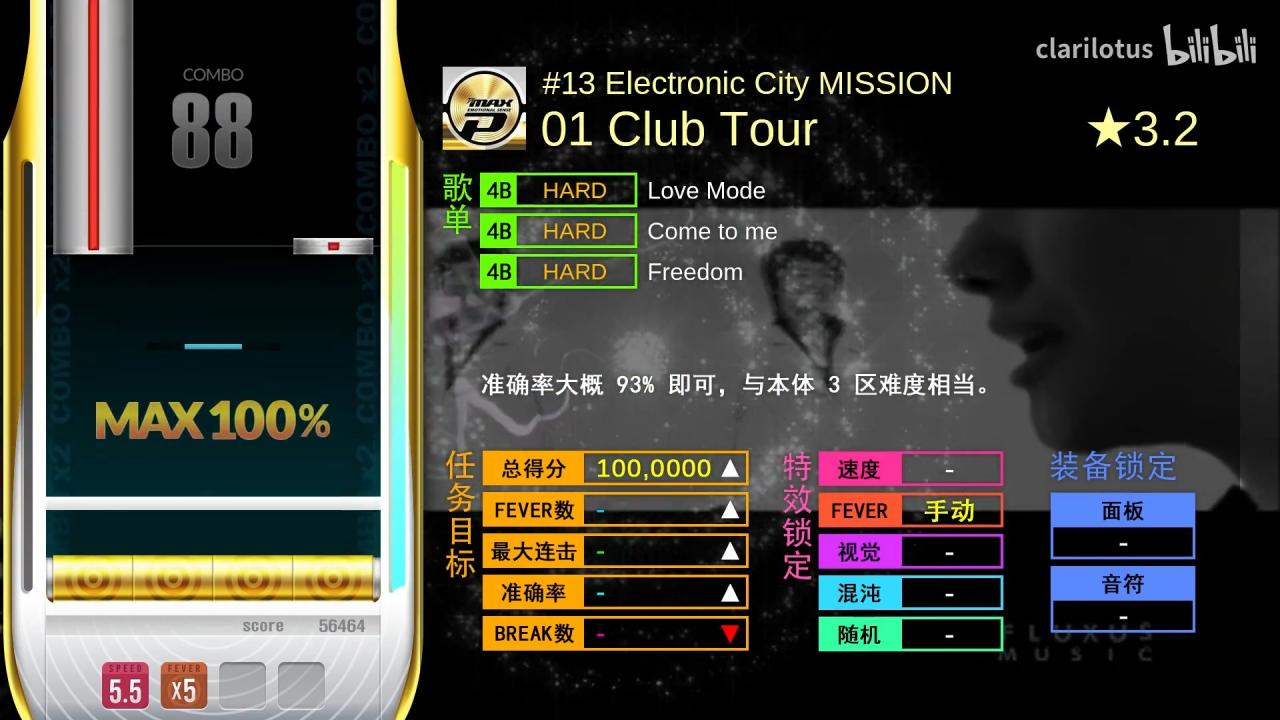hold-start: (53, 234, 134, 255)
note: (293, 238, 374, 256)
